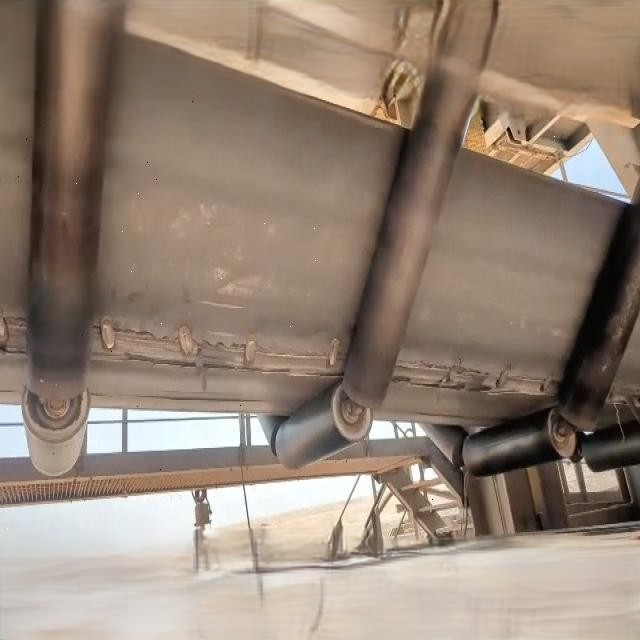Tear: (84, 313, 348, 389), (386, 352, 564, 406), (0, 301, 33, 355)
